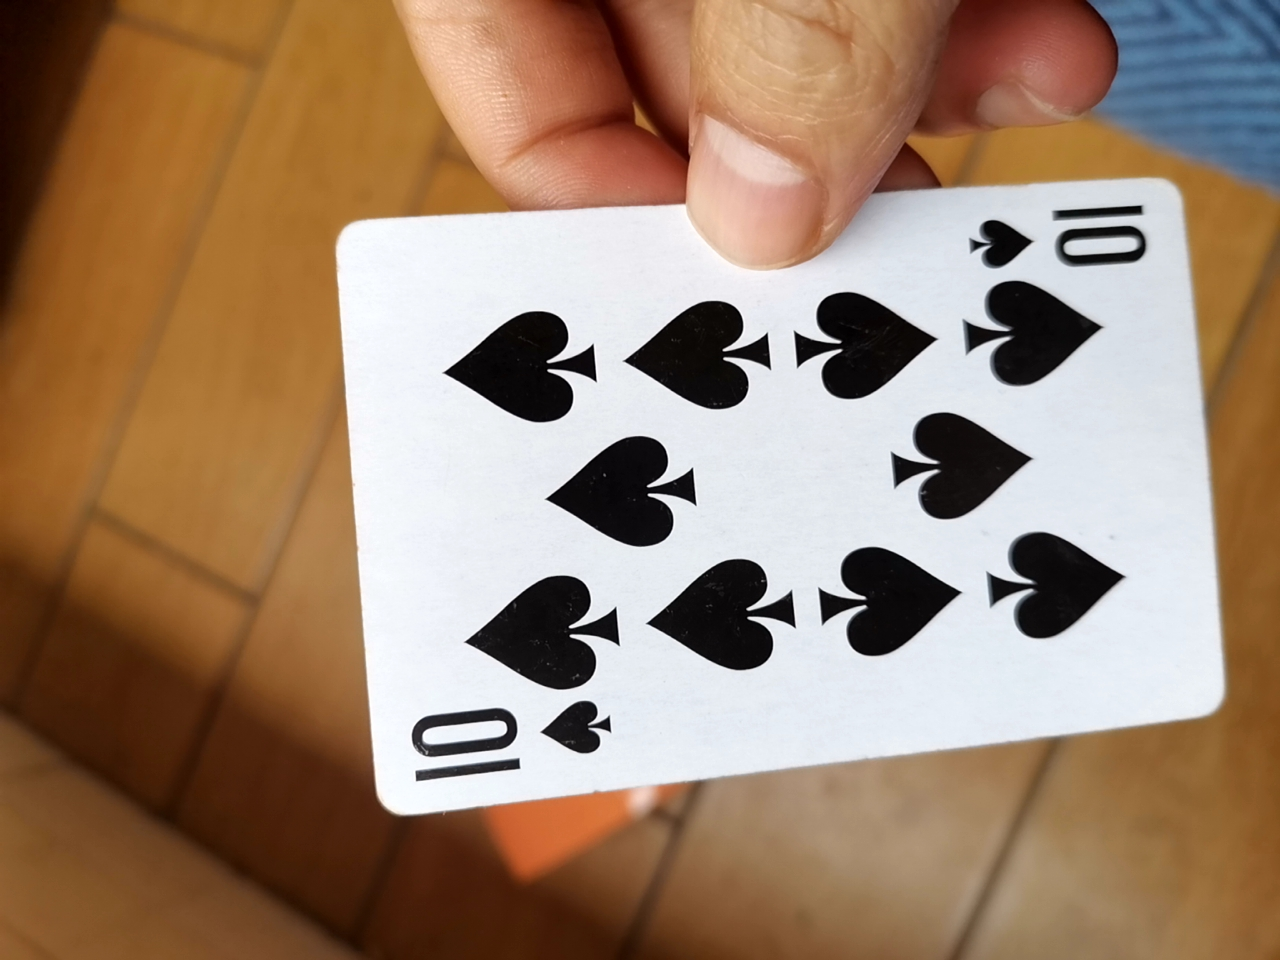ht 10: (308, 169, 1218, 823)
